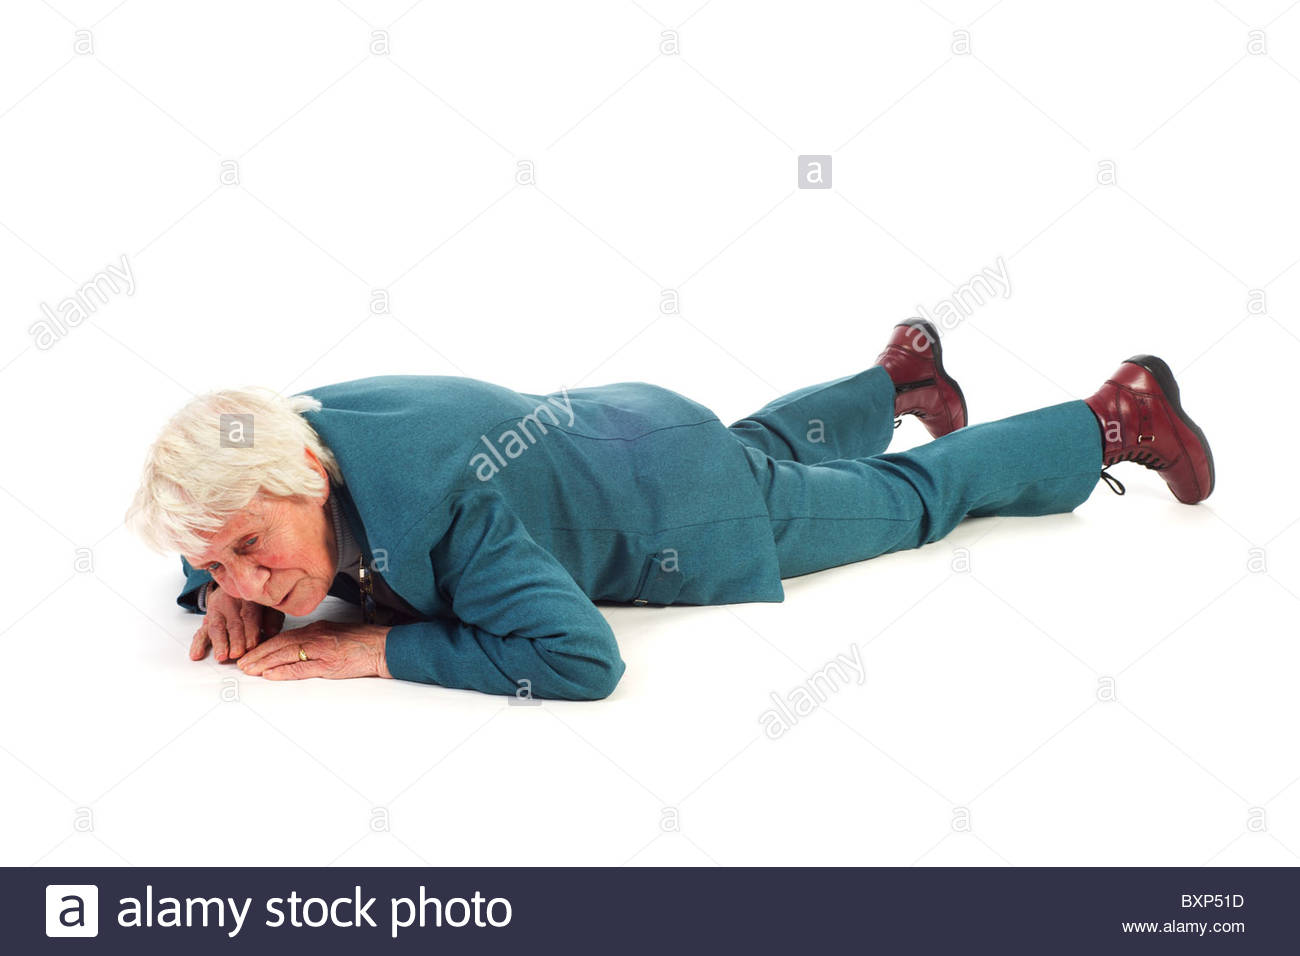collapsed: (118, 318, 1235, 713)
